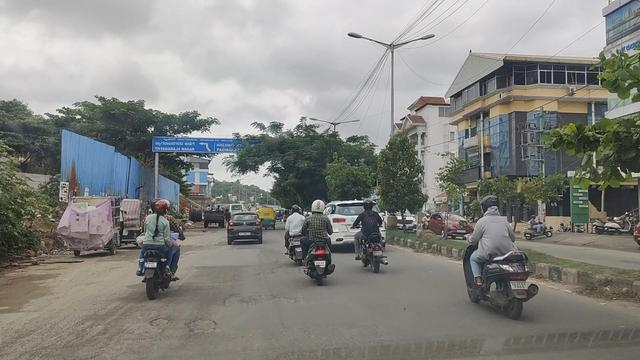LMV: (464, 197, 522, 321), (139, 199, 174, 302), (299, 192, 333, 279), (354, 201, 383, 270), (229, 212, 258, 242)
RoadDamages: (3, 318, 125, 360), (214, 281, 293, 309), (137, 307, 169, 335), (186, 313, 220, 337)
